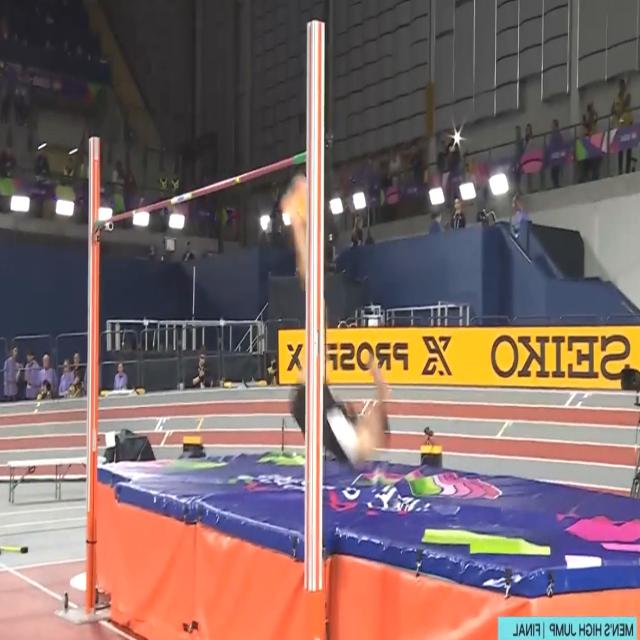land: (283, 171, 391, 466)
